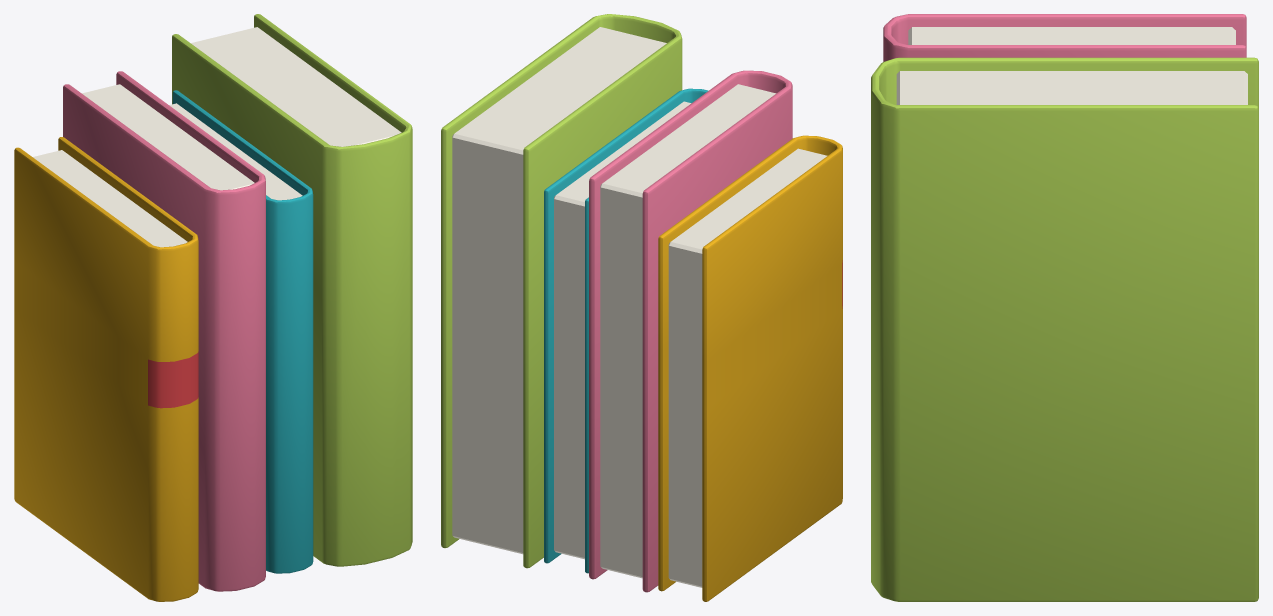
The model's file is livros_fileira_pequena.glb.
3 renders of one model, left to right at view 1: azimuth 30°, elevation 25°; view 2: azimuth 150°, elevation 25°; view 3: azimuth 270°, elevation 25°, orthographic. The views are drawn at different scales.
Parts seen in each view (by area): view 1: livros_fileira_pequena; view 2: livros_fileira_pequena; view 3: livros_fileira_pequena.
Boxes of the visible parts, bbox=[...] form: livros_fileira_pequena: bbox=[14, 14, 412, 601]; livros_fileira_pequena: bbox=[441, 14, 842, 601]; livros_fileira_pequena: bbox=[871, 14, 1258, 601].
Size of the model in its own units: 0.144 by 0.225 by 0.1595.
1 material, 1 textured.
